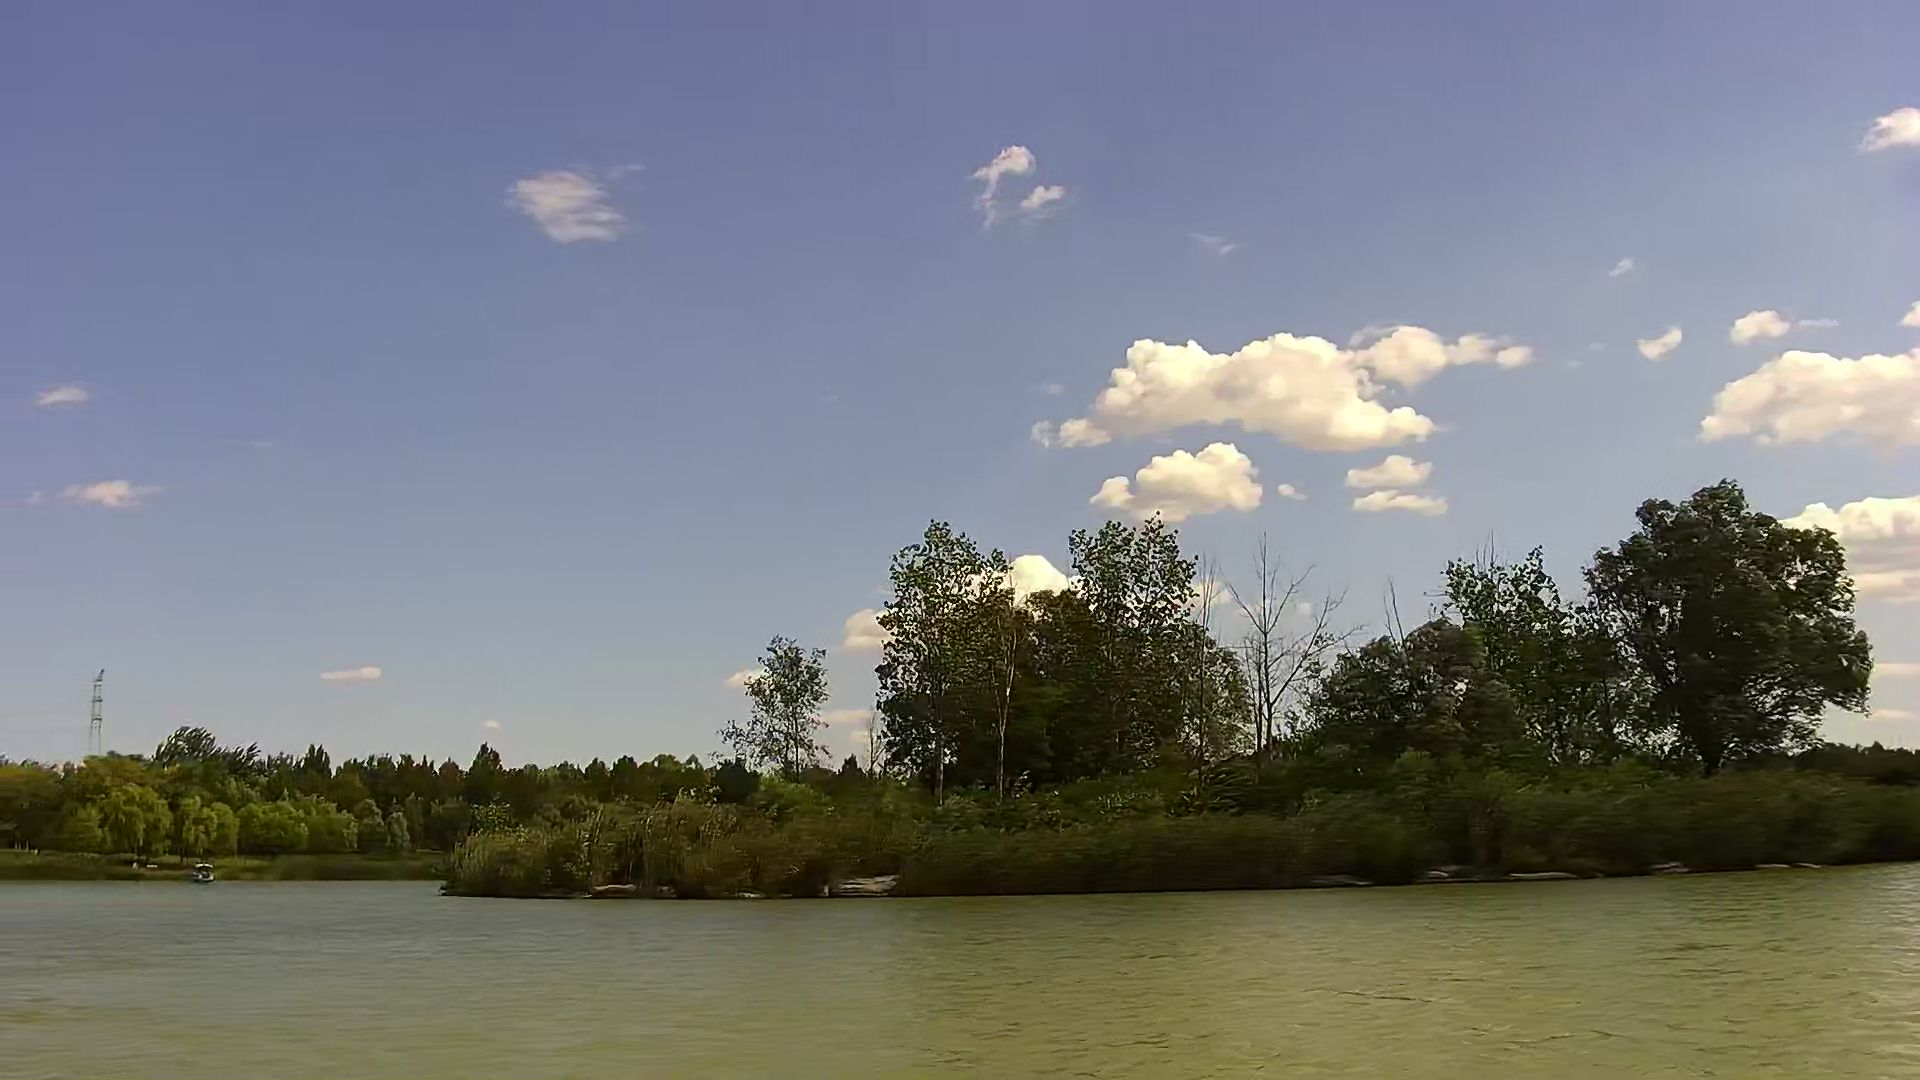rock: (824, 869, 897, 893), (578, 884, 655, 899)
